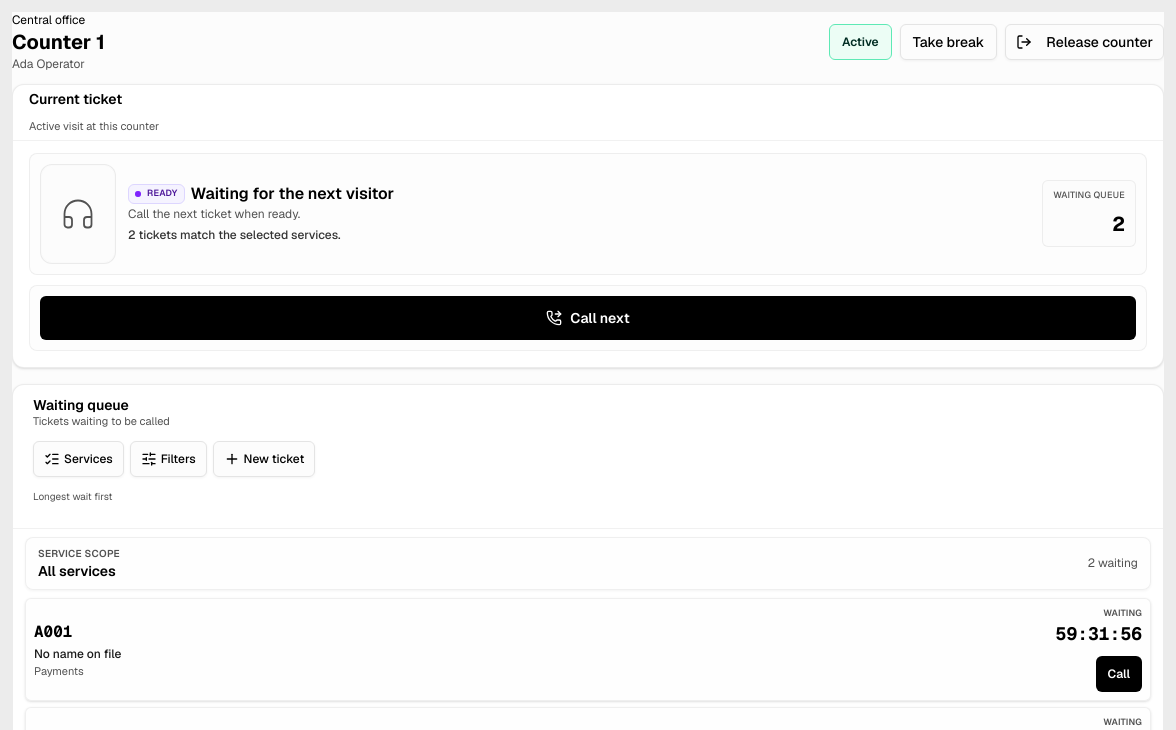
Test: StaffWorkspacePage integration › shows action failure inline and keeps the existing error toast
The width and height of the screenshot is (1176, 730).
Click the button "Call next".
click(588, 318)  # box [40, 296, 1136, 340]
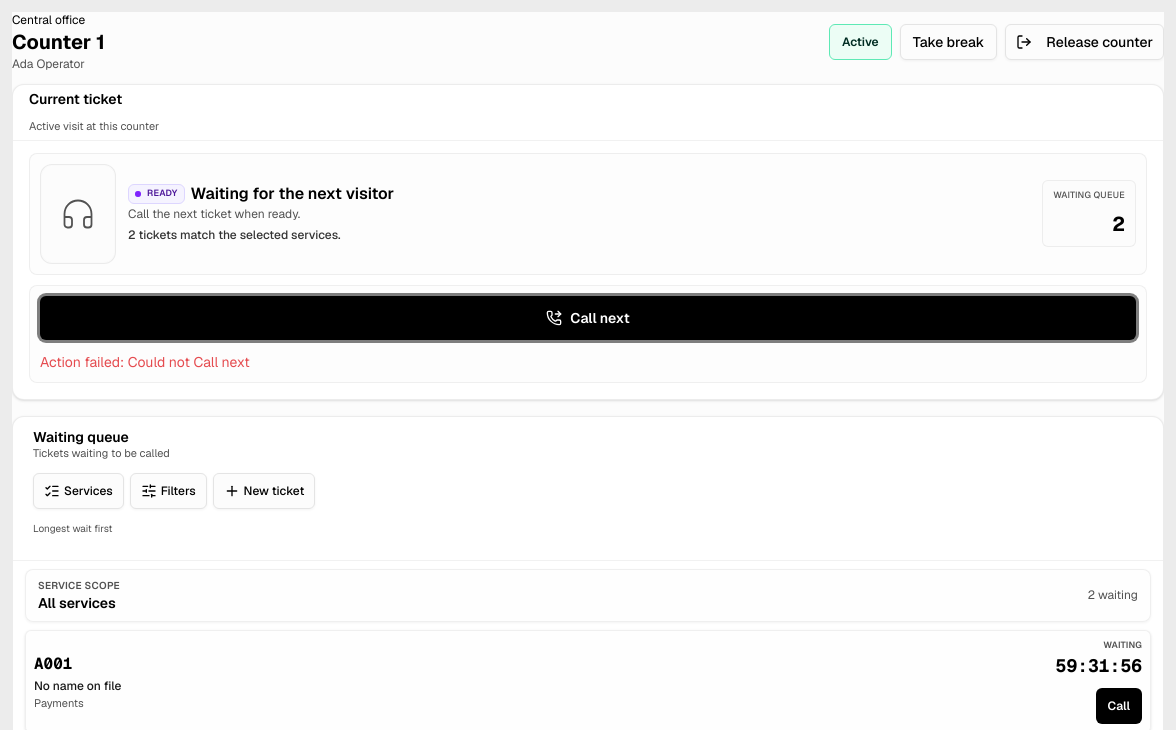
Expected: the message "Action failed: Could not Call next" is shown, [40, 353, 250, 371]
